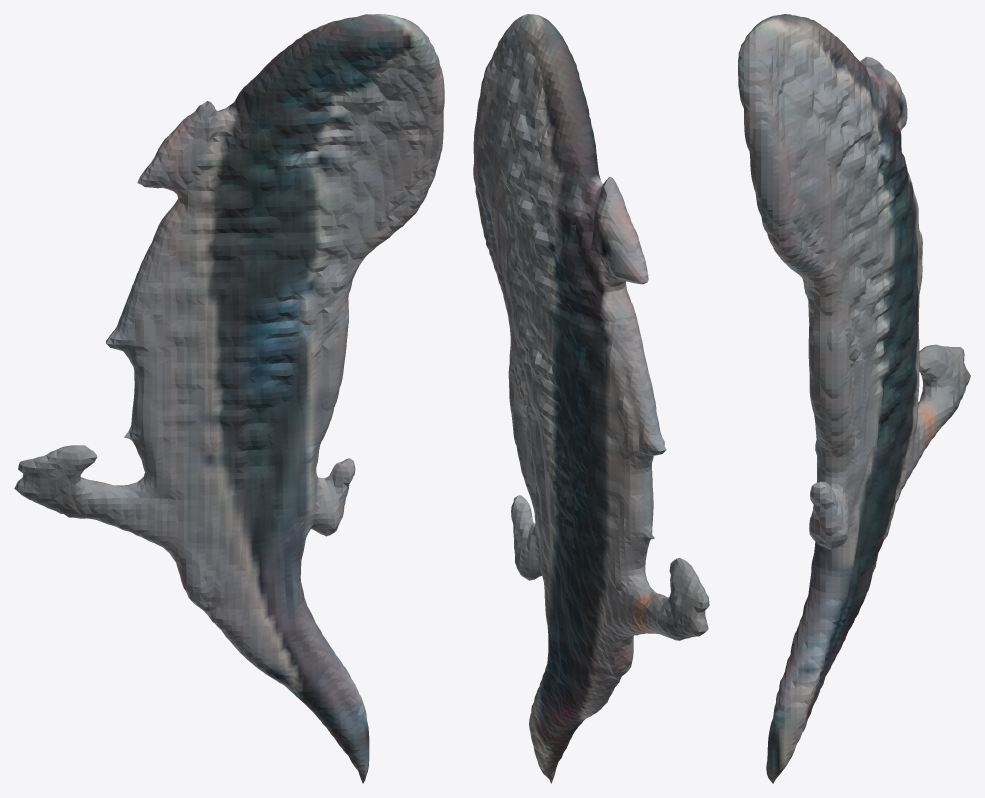
File: ambystoma-mexicanum.glb
3 renders of one model, left to right at view 1: azimuth 30°, elevation 25°; view 2: azimuth 150°, elevation 25°; view 3: azimuth 270°, elevation 25°, orthographic.
Parts seen in each view (by area): view 1: world; view 2: world; view 3: world.
Boxes of the visible parts, x1=… form: world: x1=14, y1=14, x2=444, y2=783; world: x1=473, y1=14, x2=709, y2=783; world: x1=738, y1=14, x2=970, y2=783.
Bounding box in the file's own units: 0.443 × 0.9894 × 0.2713.
